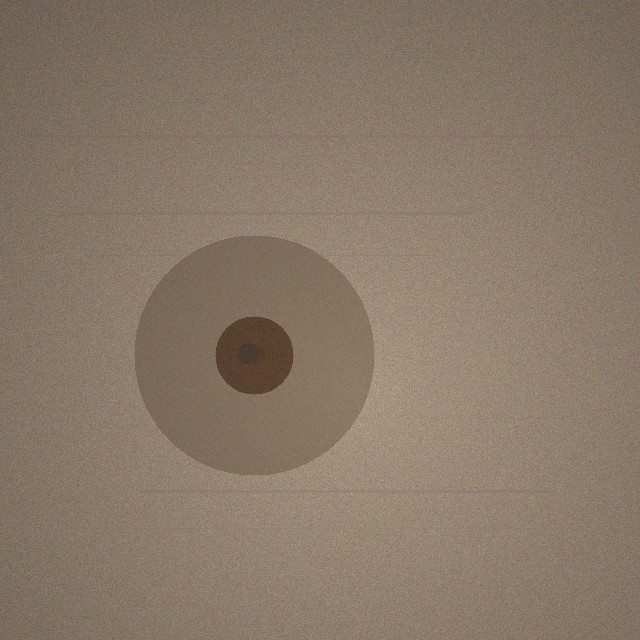cold_weld: (134, 235, 374, 475)
